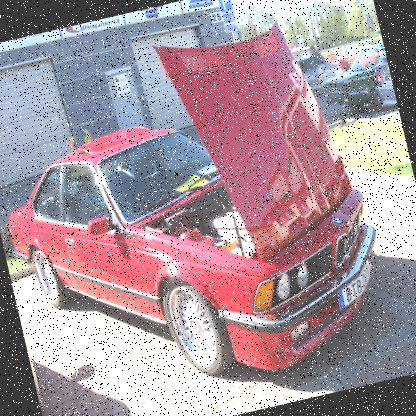Car: (0, 0, 415, 415), (21, 322, 45, 410)
